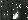person: (2, 11, 8, 20), (15, 8, 19, 19)
